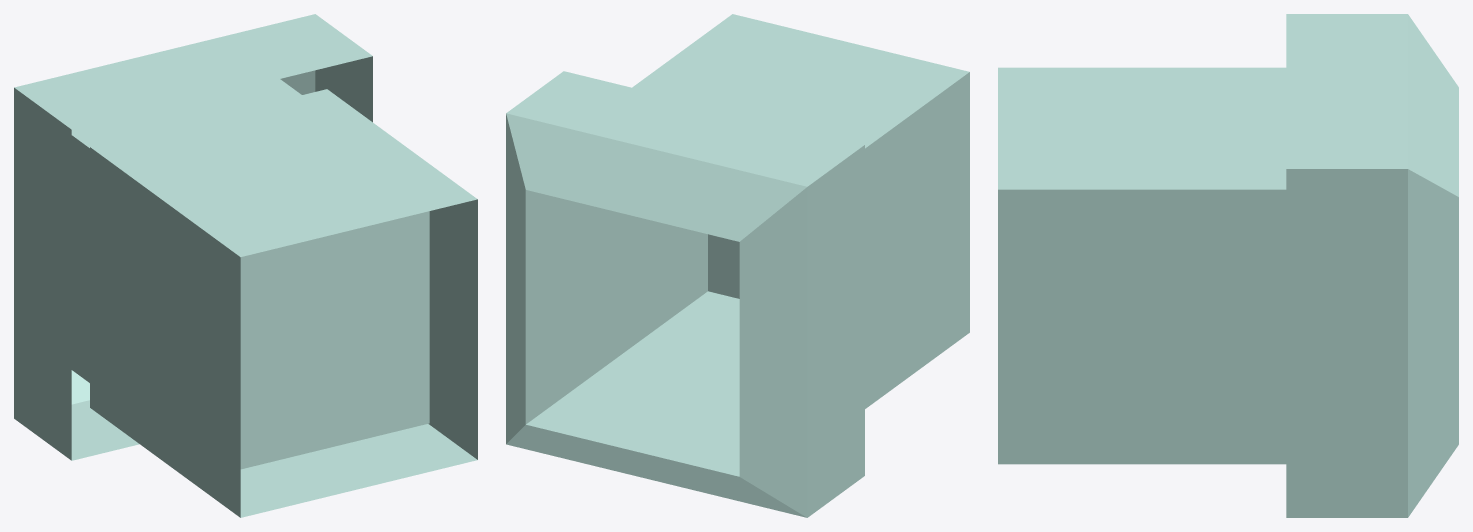
3 views of the same model, side by side, from view 1: azimuth 30°, elevation 25°; view 2: azimuth 150°, elevation 25°; view 3: azimuth 270°, elevation 25° (orthographic). The views are drawn at different scales.
Visible parts, largest first — view 1: Object97; view 2: Object97; view 3: Object97.
Boxes of the visible parts, <box> form: Object97: <box>14,14,477,517</box>; Object97: <box>506,14,969,517</box>; Object97: <box>998,14,1458,517</box>.
Size of the model in its own units: 6779 by 7118 by 8517.
